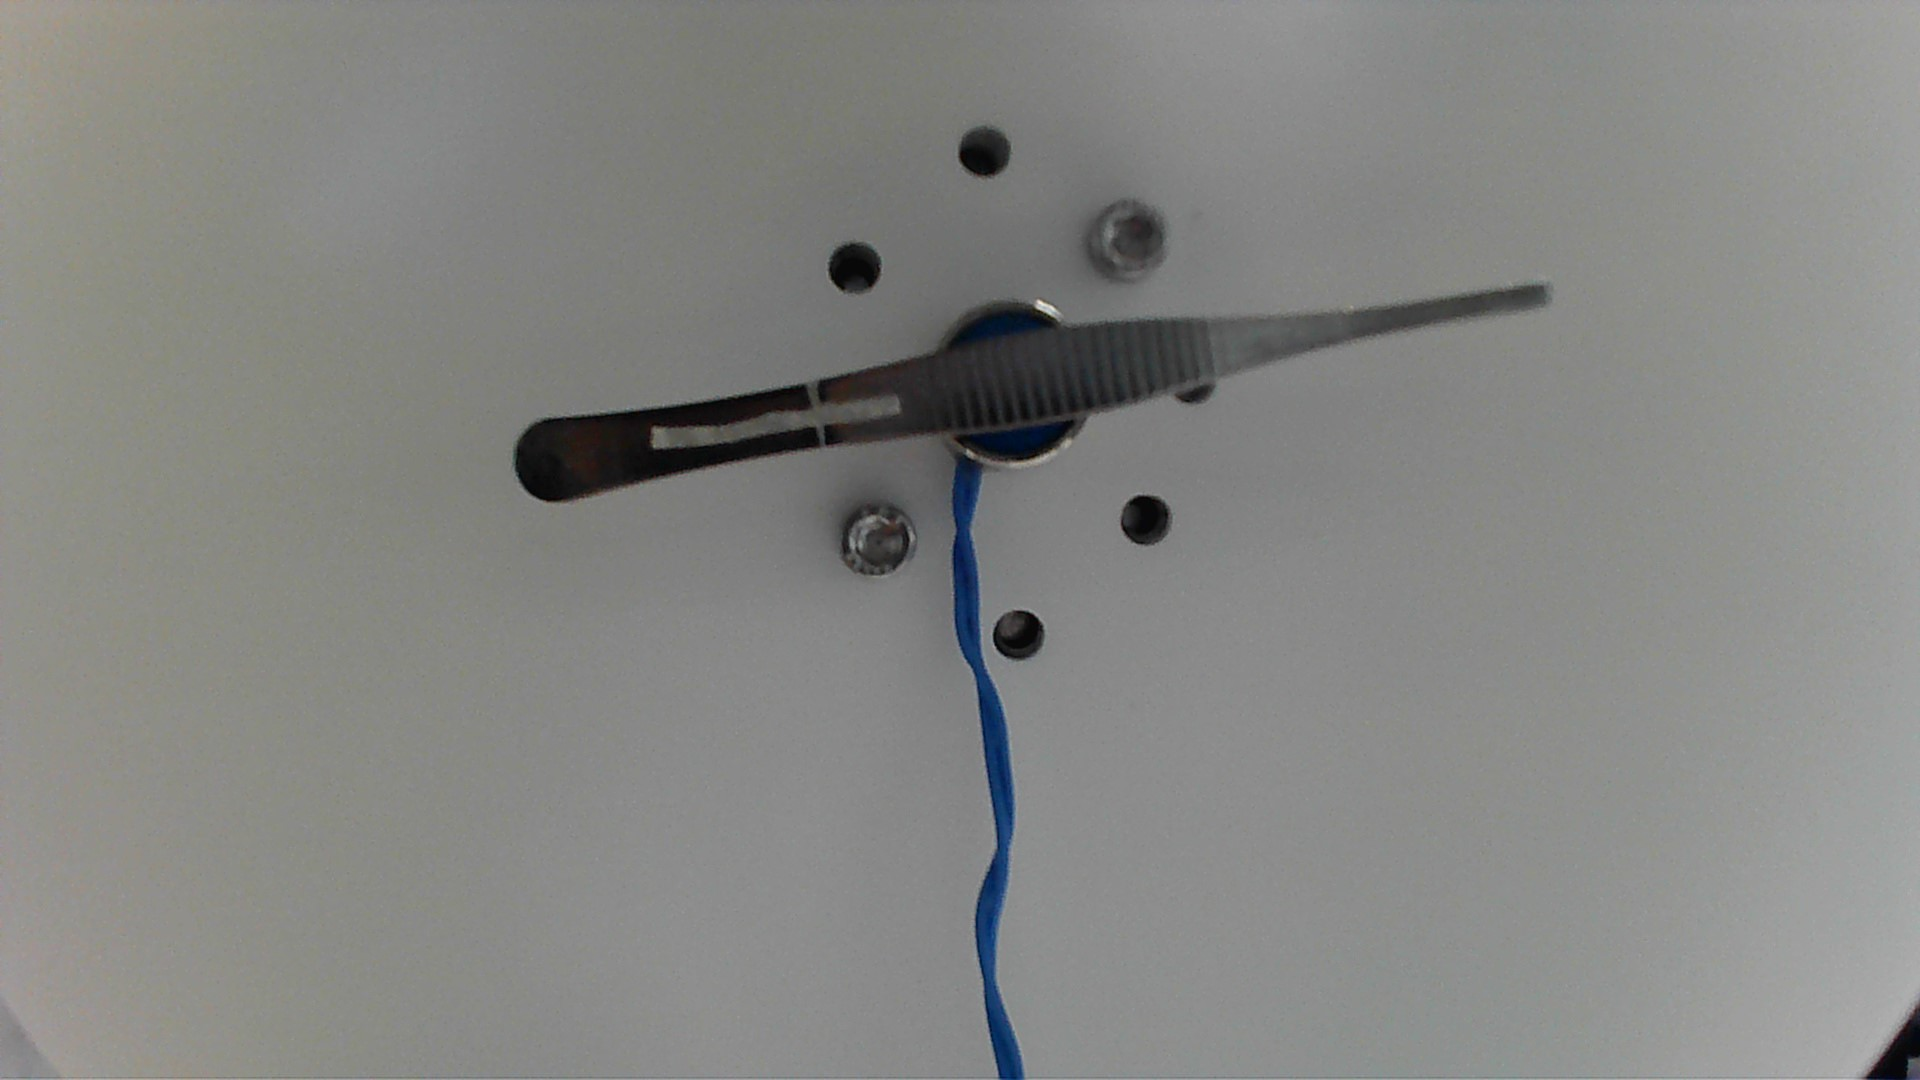Scratches: (642, 389, 911, 451)
